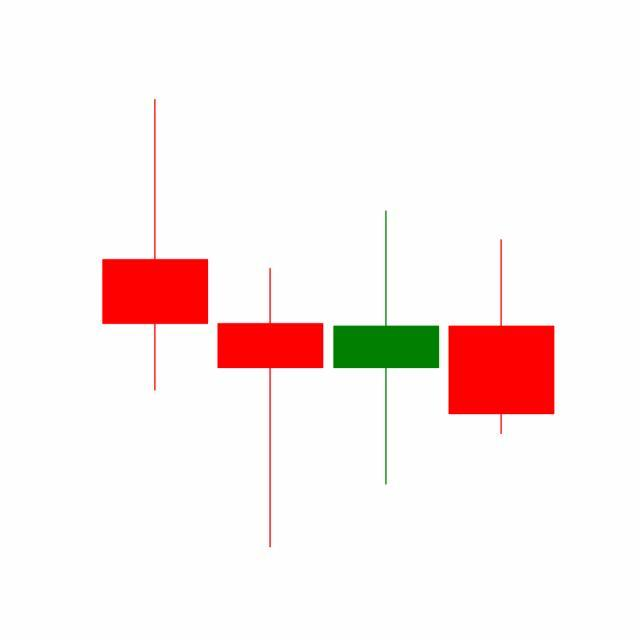Spinning Top: (329, 208, 445, 489)
